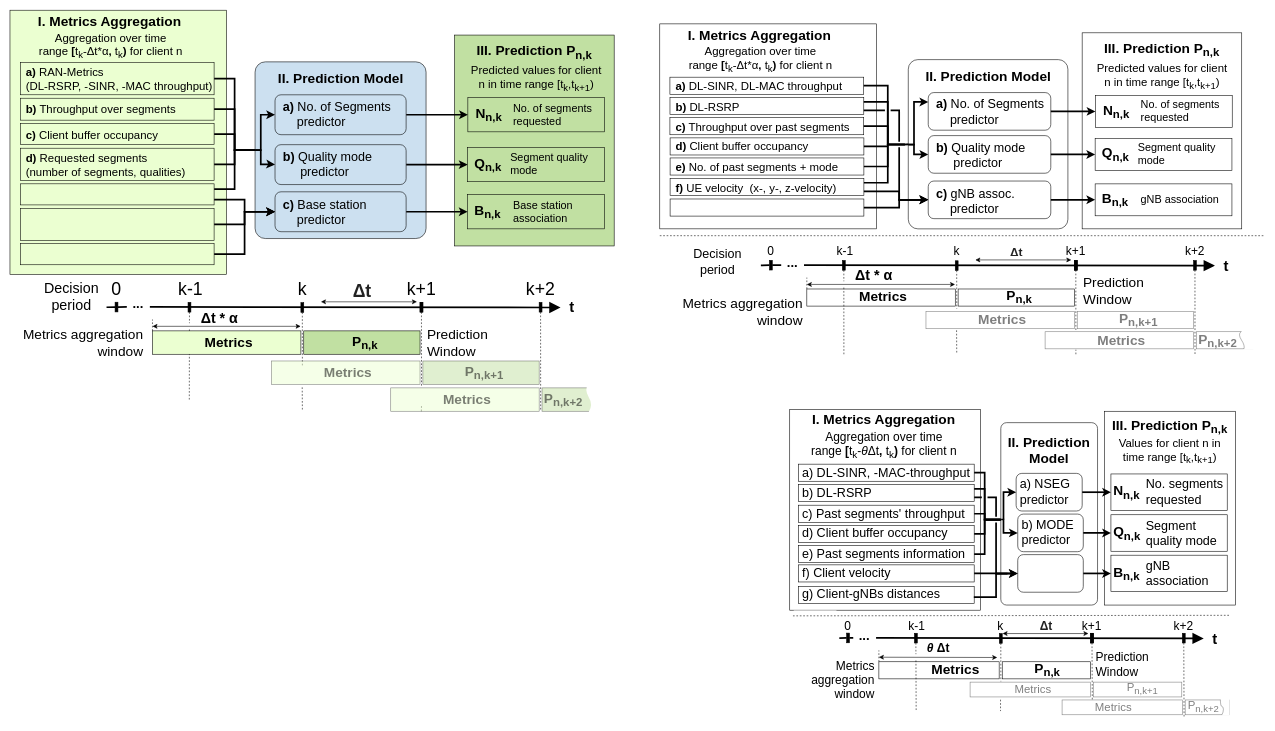
Image size: 1275x731. Some labels were removed from this diagram. The shapes that lost their labels are listed below. From the top down, each one's centre as x and y in pixels, then its label:
At [117,194]: "e) UE velocity (x, y, z velocity)".
At [767,207]: "g) UE position L2-norm to gNBs".
At [117,224]: "f) UE distance to each base station (euclidean distance to each BS)".
At [117,254]: "g) last gNodeB association".
At [1050,573]: "c) GNB predictor".
At [814,631]: "Decision instant".
